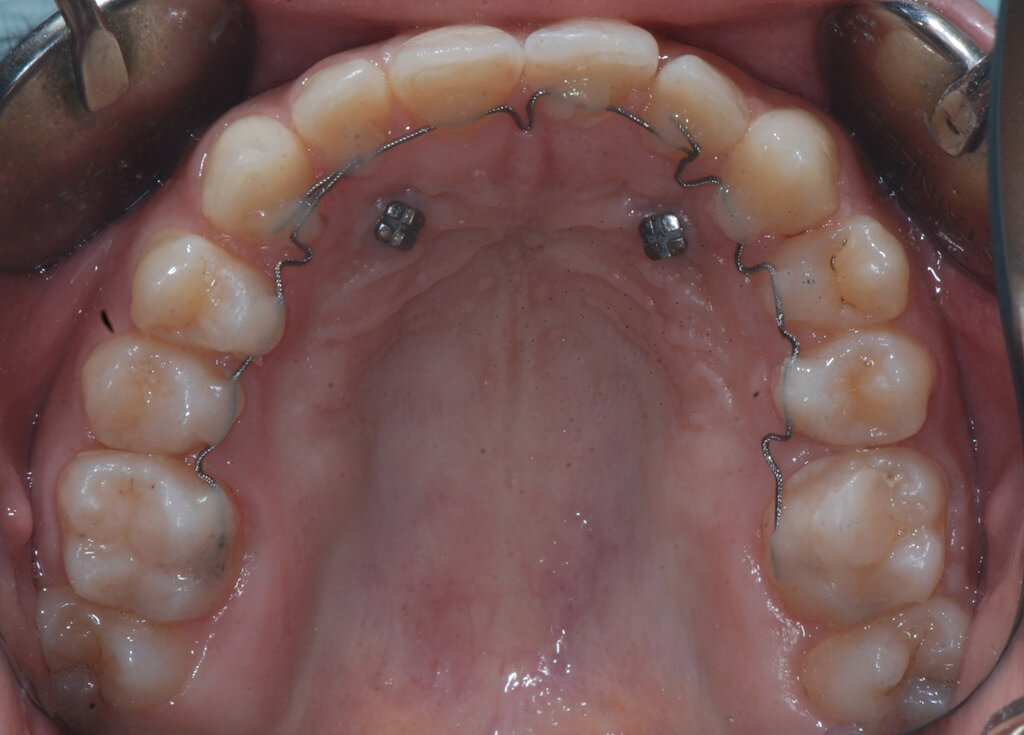UL1BC_decay: (762, 227, 903, 337)
UL1M_decay: (764, 452, 944, 628)
UL2BC_decay: (774, 333, 932, 445)
UL2M_decay: (796, 599, 952, 725)
ULCI_healthy: (519, 32, 657, 82)
ULC_decay: (716, 123, 838, 240)
ULLI_decay: (663, 64, 743, 149)
UR1BC_healthy: (139, 238, 241, 345)
UR1M_healthy: (60, 448, 183, 603)
UR2BC_healthy: (85, 344, 184, 455)
UR2M_decay: (42, 591, 159, 720)
URCI_healthy: (393, 27, 525, 102)
URC_healthy: (207, 120, 307, 232)
URLI_healthy: (295, 63, 388, 135)
